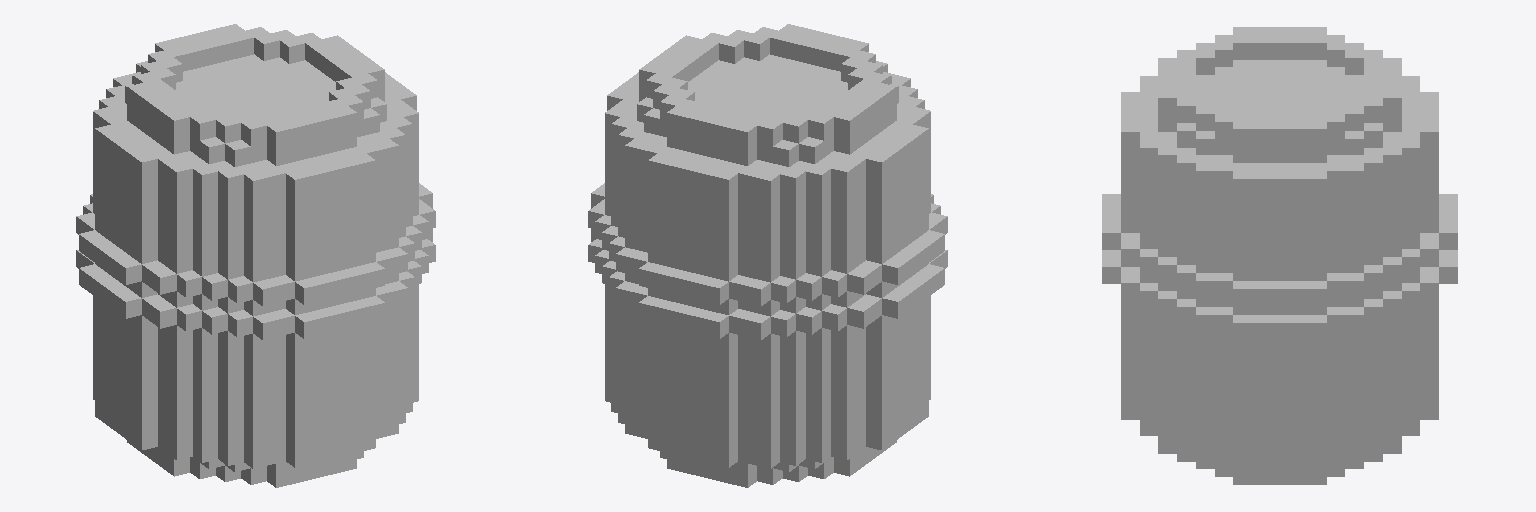
The model's file is Barril.obj.
The picture shows the model from 3 angles: view 1: azimuth 30°, elevation 25°; view 2: azimuth 150°, elevation 25°; view 3: azimuth 270°, elevation 25°; orthographic projection.
Parts seen in each view (by area): view 1: object 1; view 2: object 1; view 3: object 1.
Boxes of the visible parts, <box> form: object 1: <box>76,24,435,487</box>; object 1: <box>588,24,947,487</box>; object 1: <box>1102,27,1457,484</box>.
Size of the model in its own units: 1.9 by 2.1 by 1.9.